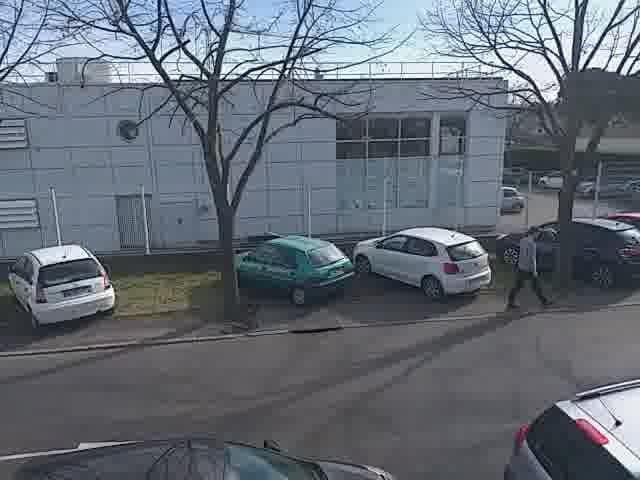persona: (507, 220, 554, 312)
